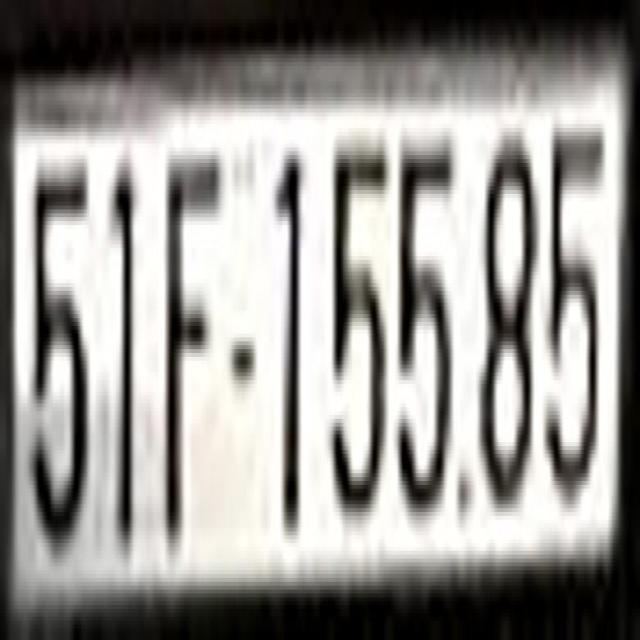1: (270, 109, 307, 578), (108, 162, 142, 562)
5: (322, 128, 388, 536), (394, 124, 456, 524), (31, 159, 95, 543), (544, 116, 606, 508)
8: (480, 124, 535, 512)
F: (161, 132, 224, 566)
